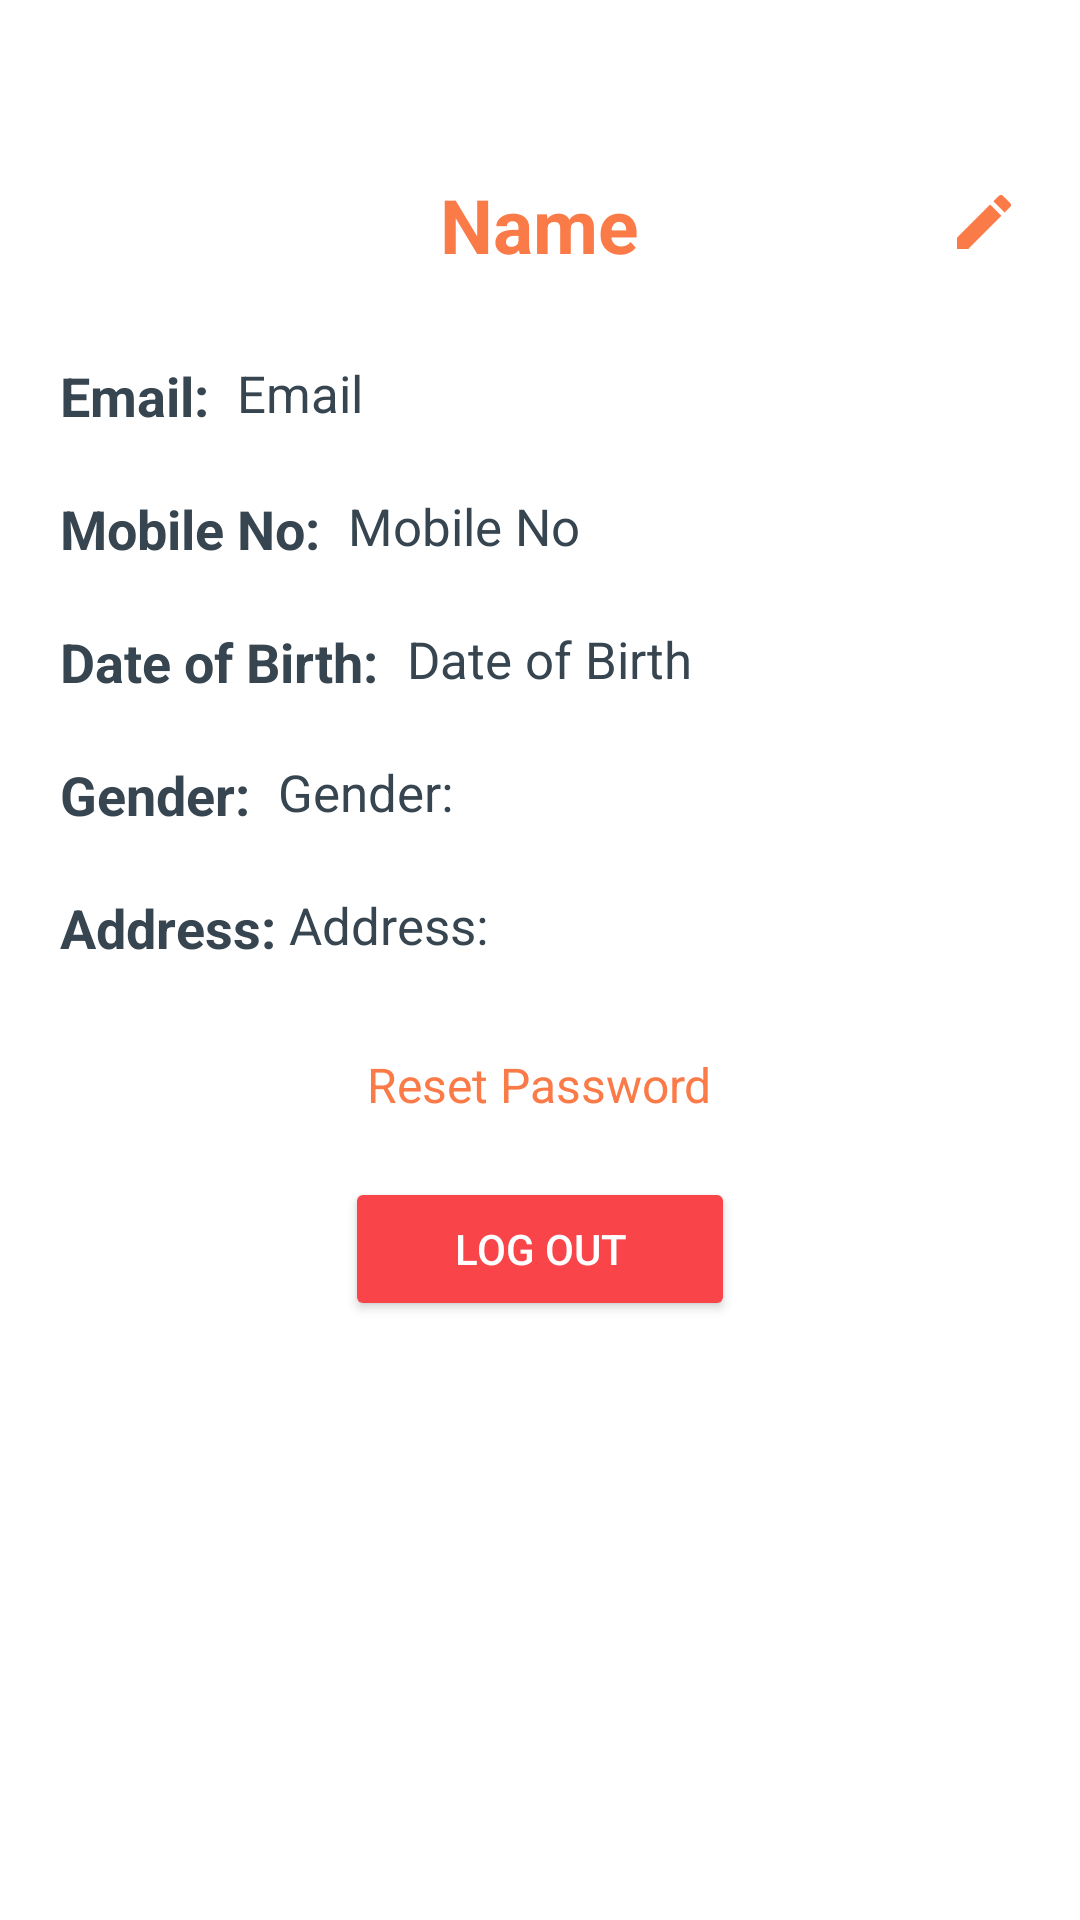

Icon click points for this 1080x1920 phone screenshot, format point (x, y):
edit: point (984, 222)
